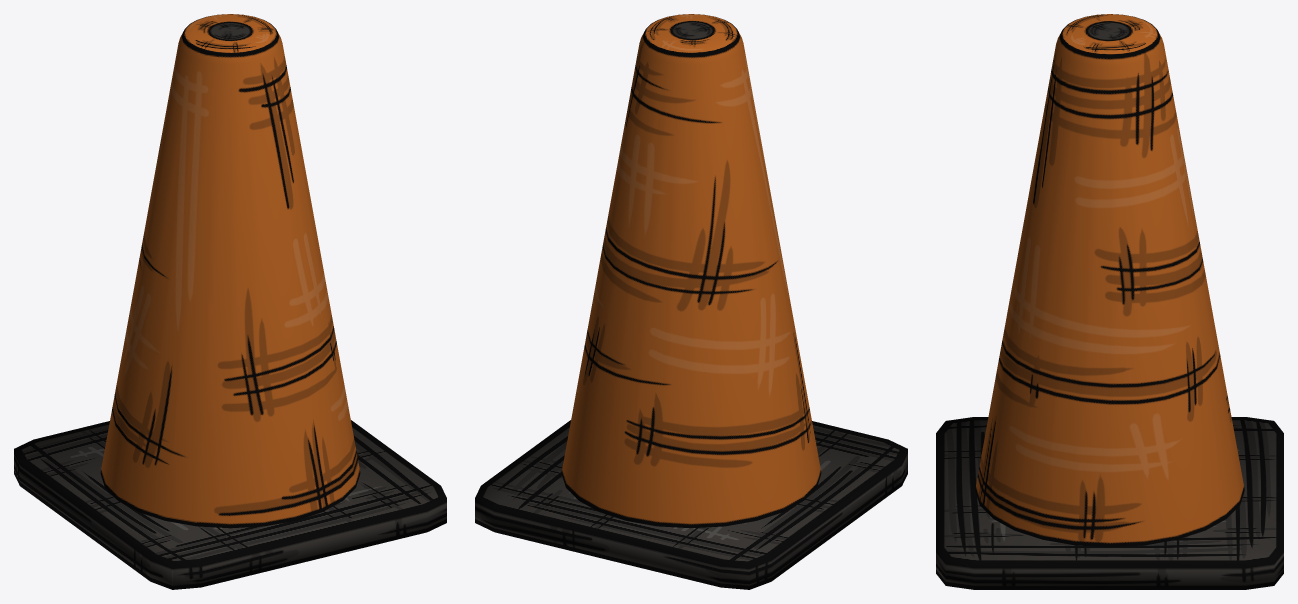
Rendered from TrafficCone.FBX.
3 renders of one model, left to right at view 1: azimuth 30°, elevation 25°; view 2: azimuth 150°, elevation 25°; view 3: azimuth 270°, elevation 25°, orthographic. The views are drawn at different scales.
Parts seen in each view (by area): view 1: Box001; view 2: Box001; view 3: Box001.
Part boxes in pixels (left/top/right/bottom): Box001: left=14, top=14, right=446, bottom=589; Box001: left=475, top=14, right=907, bottom=589; Box001: left=936, top=14, right=1283, bottom=589.
Bounding box in the file's own units: 119 × 183 × 119.
